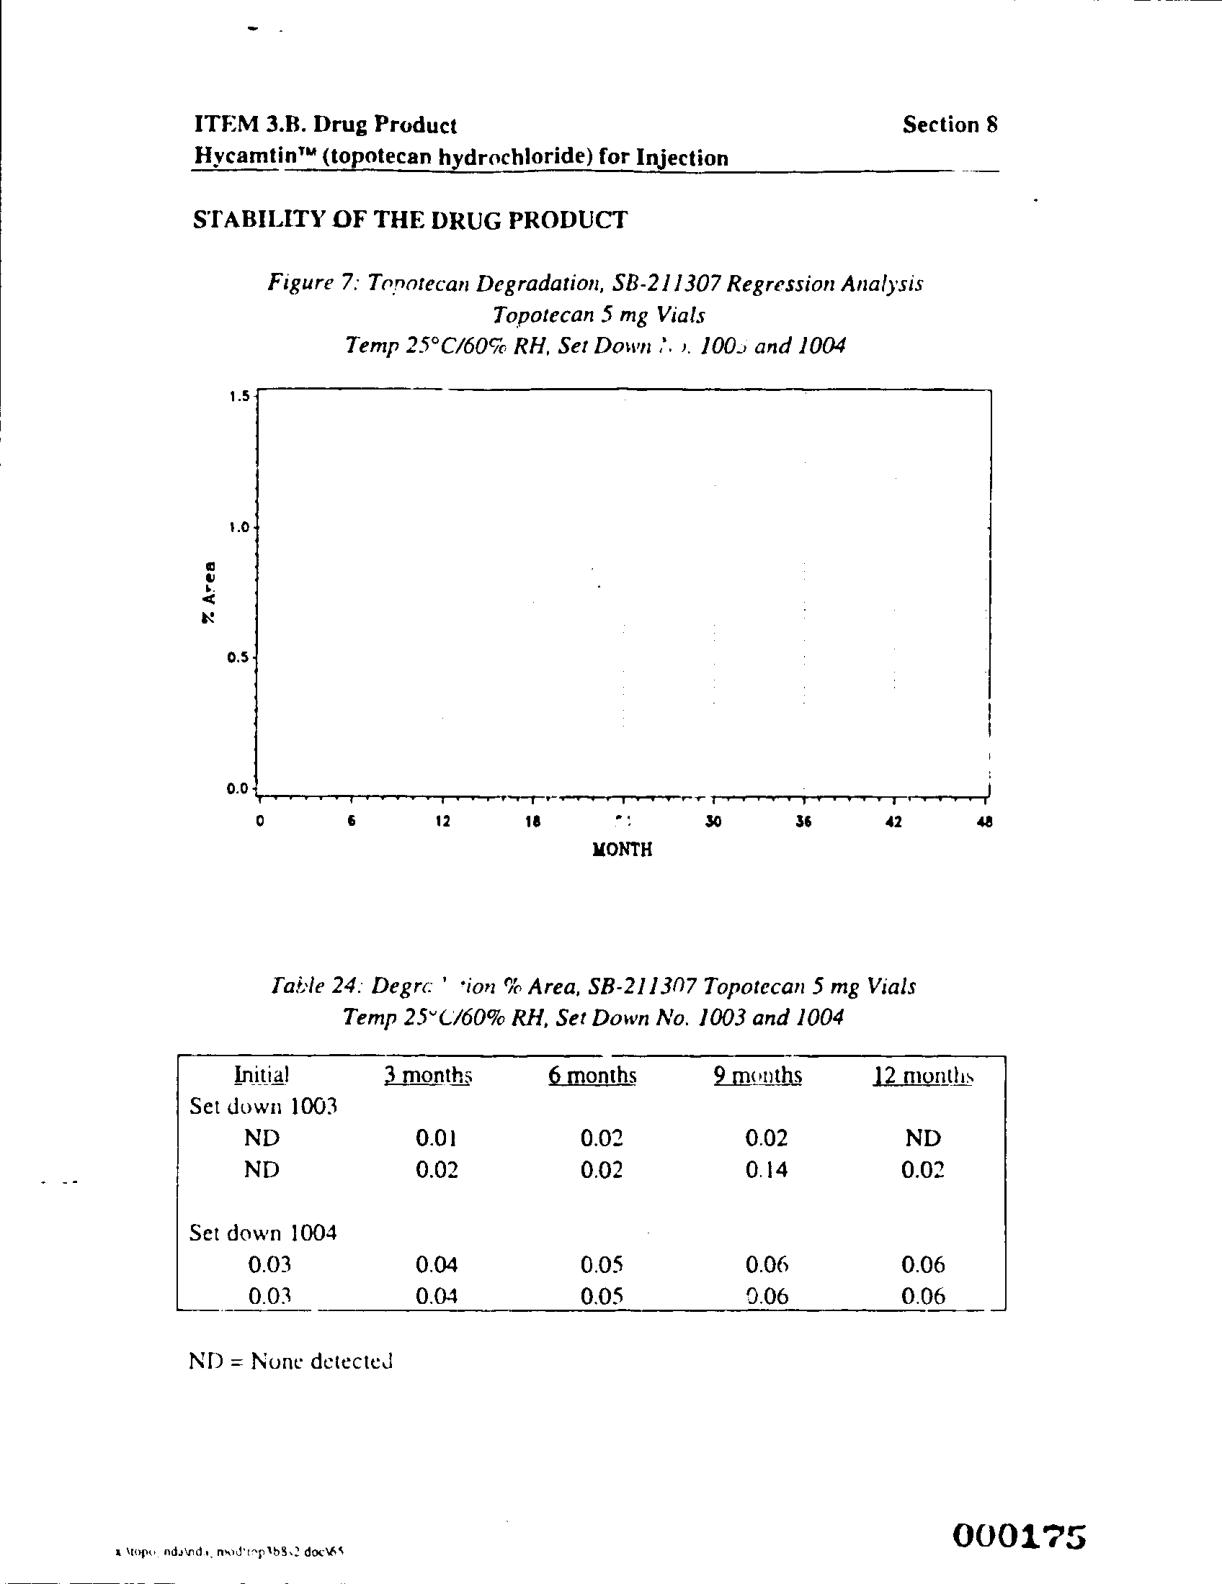partial_lined_merged_cells: (175, 1053, 1009, 1314)
